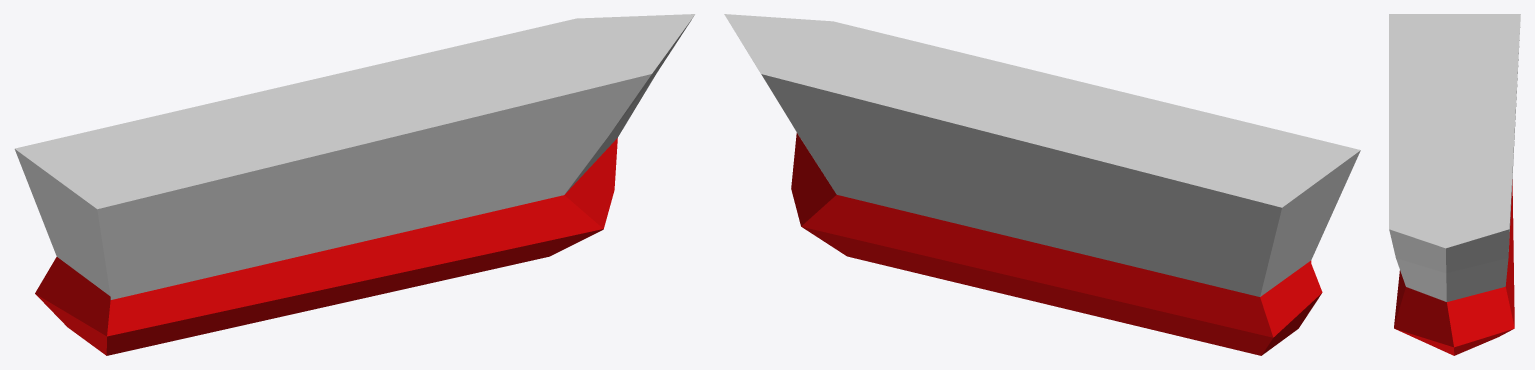
File: ship.gltf
3 views of the same model, side by side, from view 1: azimuth 30°, elevation 25°; view 2: azimuth 150°, elevation 25°; view 3: azimuth 270°, elevation 25° (orthographic). The views are drawn at different scales.
Visible parts, largest first — view 1: Cube; view 2: Cube; view 3: Cube.
Part boxes in pixels (box(x1,y1,x2,y2)): Cube: box(14, 14, 695, 355); Cube: box(724, 14, 1360, 355); Cube: box(1389, 14, 1520, 355).
Bounding box in the file's own units: 12.2 × 3.51 × 2.76.
